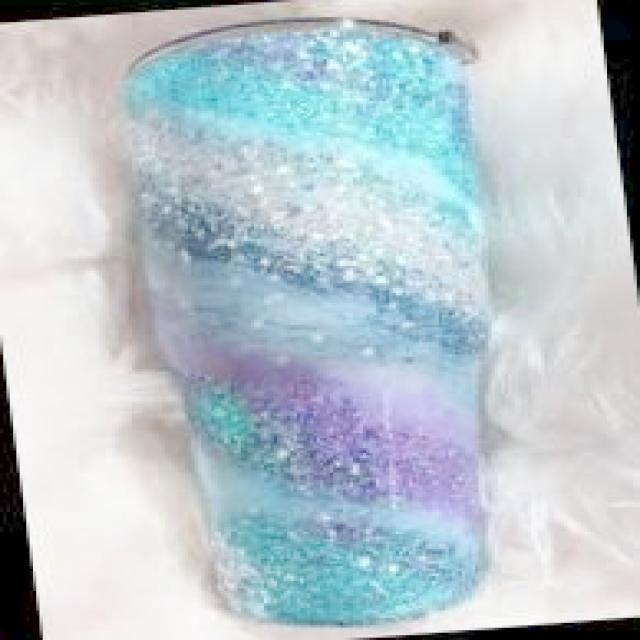bottle: (112, 7, 544, 640)
